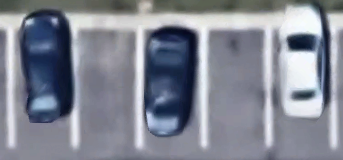Occupied: (10, 20, 75, 149), (270, 20, 335, 149), (140, 20, 205, 148)
Vacant: (75, 20, 141, 149), (205, 20, 269, 149)
